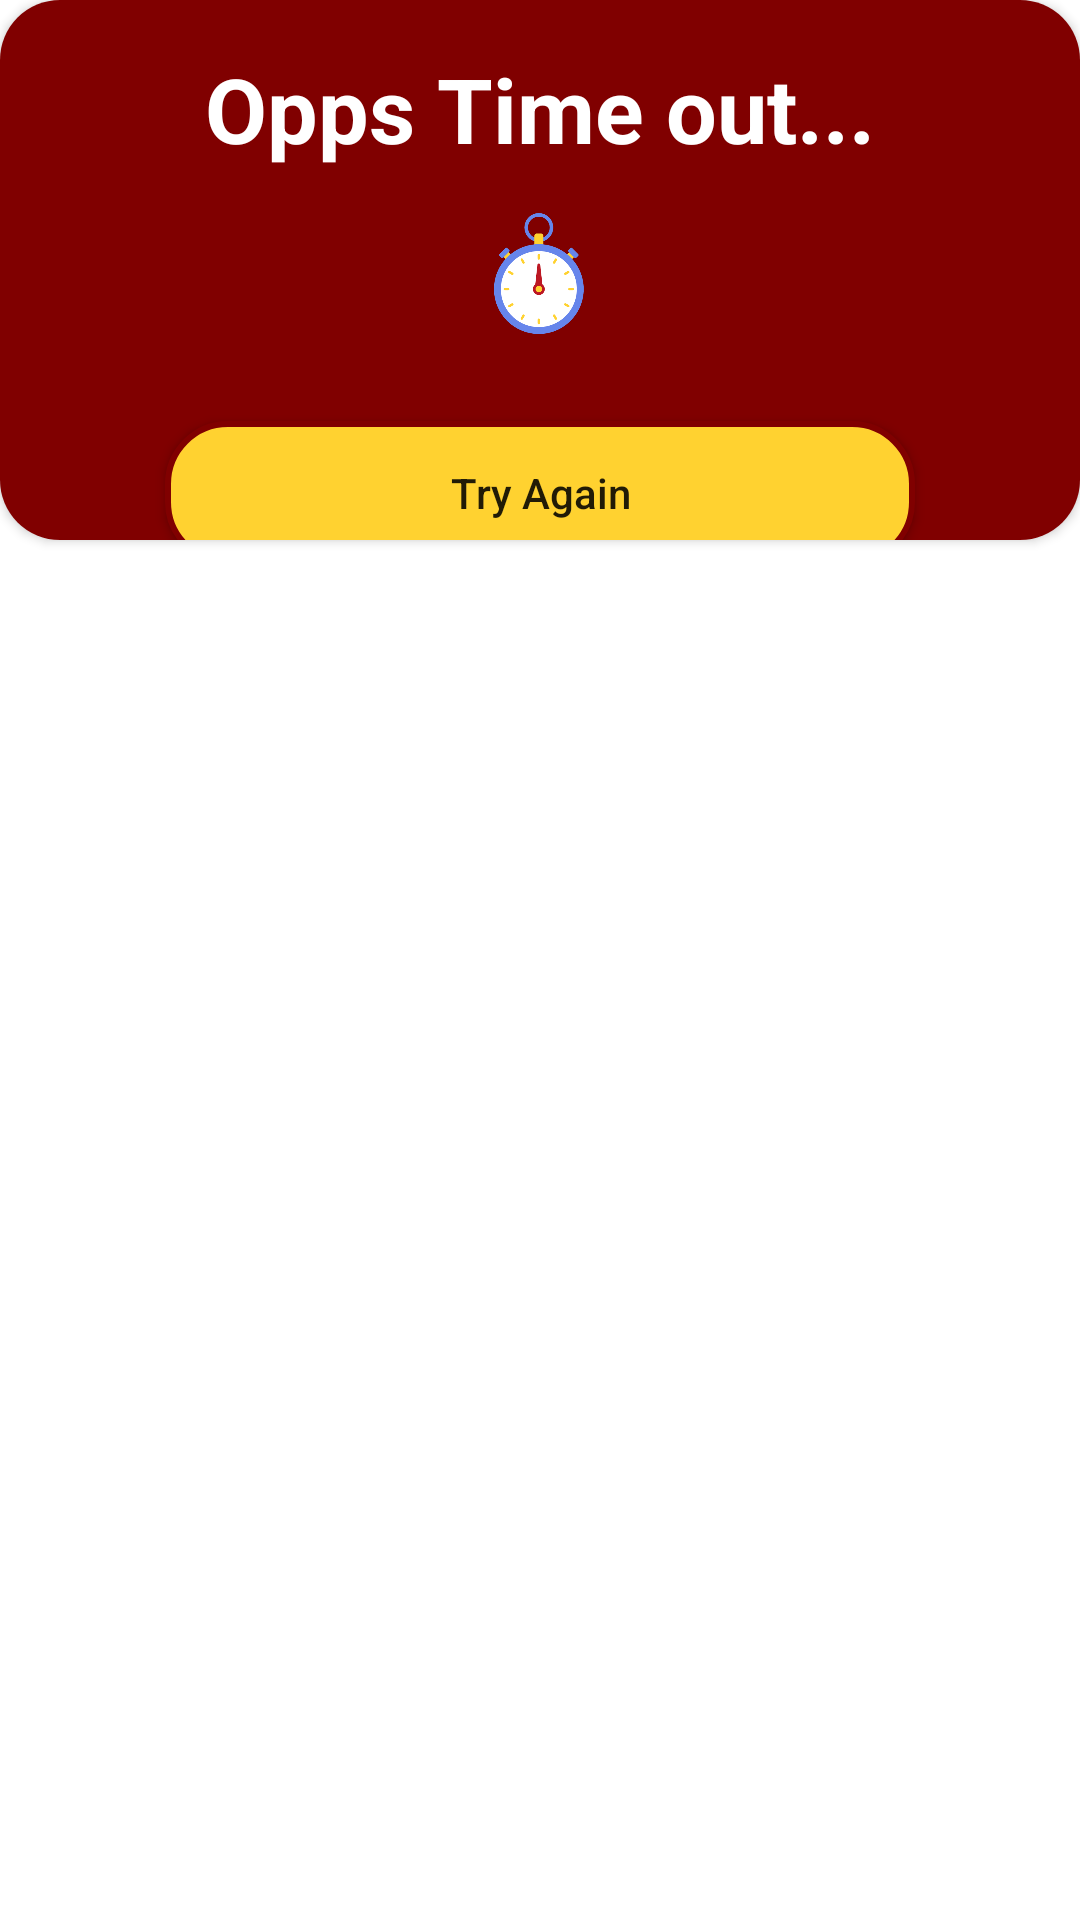

Screen size 1080w x 1920h. Icon name, then its center in pixels as (x=x, y=y):
timewatch: (x=539, y=273)
